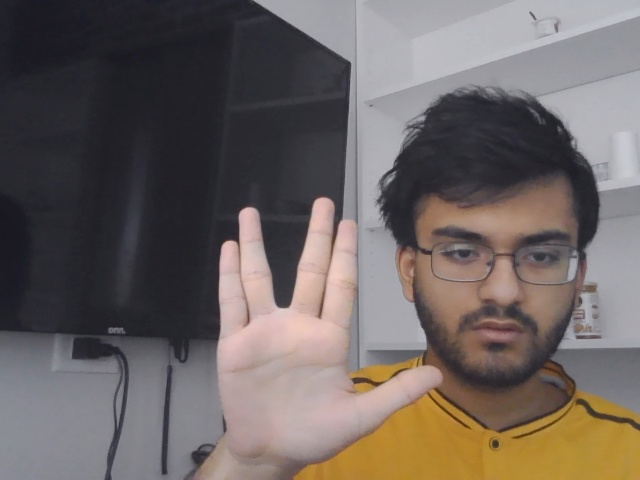LiveLong: (216, 196, 445, 468)
